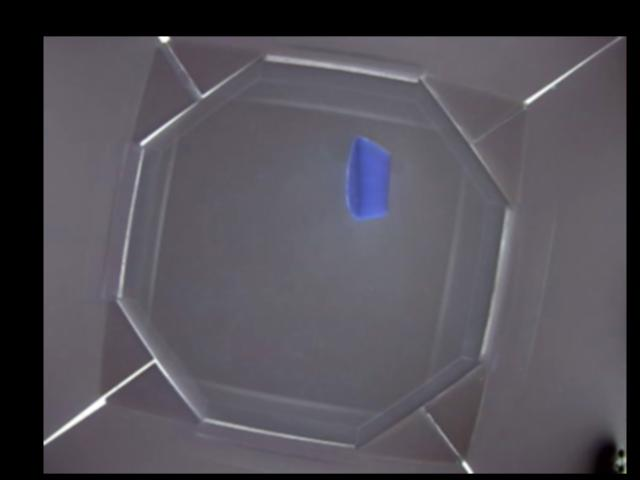Potato: (346, 137, 391, 220)
